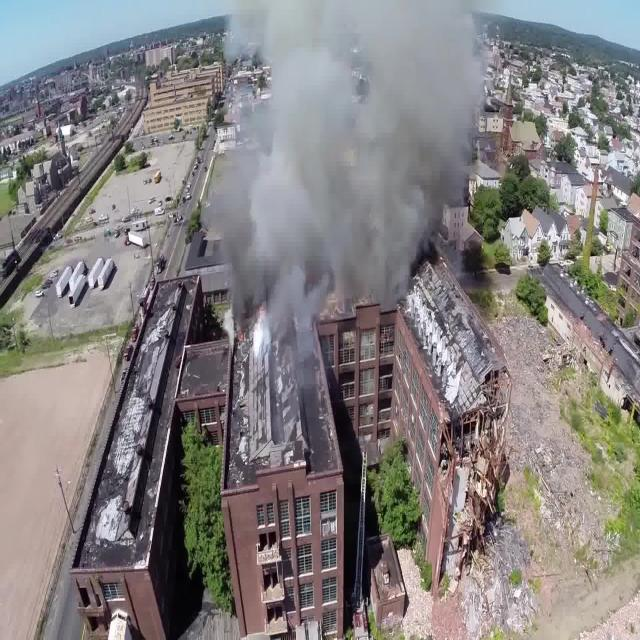Smoke: (212, 1, 486, 326)
